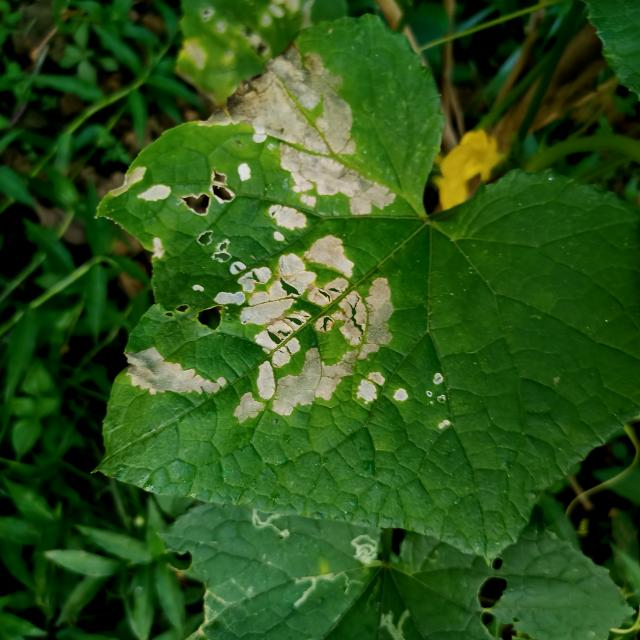disease_cucumber: (124, 235, 412, 424), (109, 50, 398, 232), (420, 362, 460, 434)
